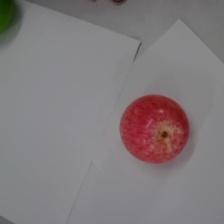red: (119, 93, 190, 165)
